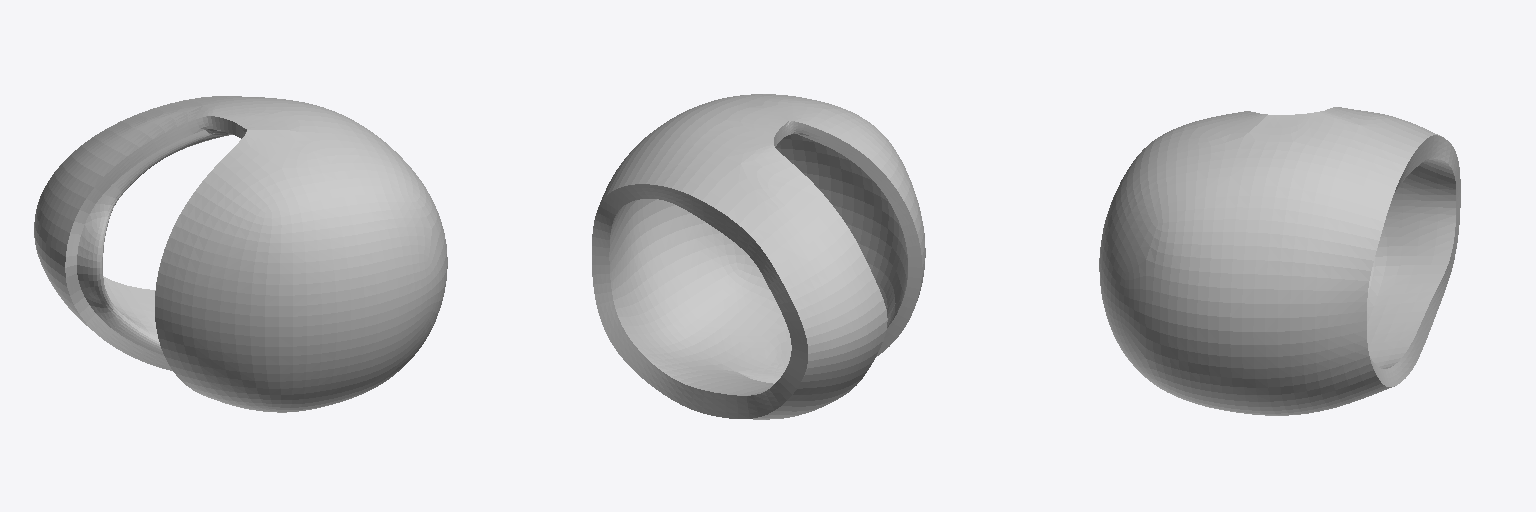
File: BikeHelmetOnlyV2.obj
3 views of the same model, side by side, from view 1: azimuth 30°, elevation 25°; view 2: azimuth 150°, elevation 25°; view 3: azimuth 270°, elevation 25° (orthographic).
Parts seen in each view (by area): view 1: 10517_Motorcycle_Helmet_v01_L3.001; view 2: 10517_Motorcycle_Helmet_v01_L3.001; view 3: 10517_Motorcycle_Helmet_v01_L3.001.
Part boxes in pixels (bbox=[...]): 10517_Motorcycle_Helmet_v01_L3.001: bbox=[34, 96, 447, 412]; 10517_Motorcycle_Helmet_v01_L3.001: bbox=[592, 94, 925, 419]; 10517_Motorcycle_Helmet_v01_L3.001: bbox=[1099, 107, 1460, 415].
Size of the model in its own units: 40.2 by 33.06 by 40.36.